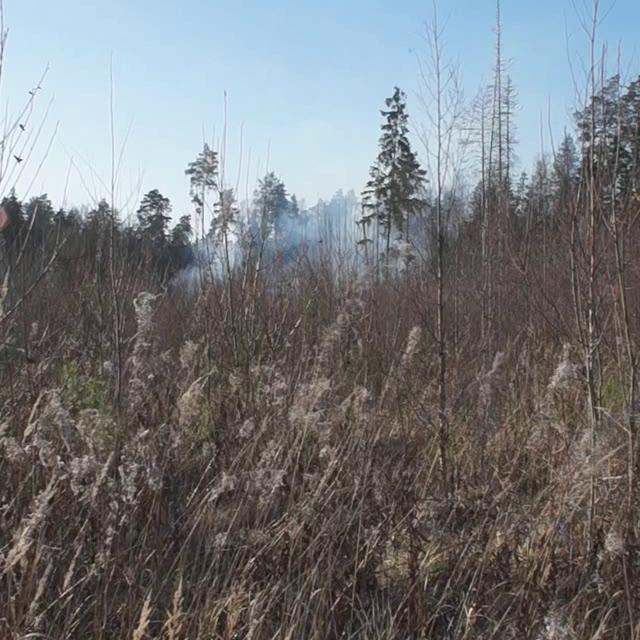Smoke: (164, 165, 483, 304)
